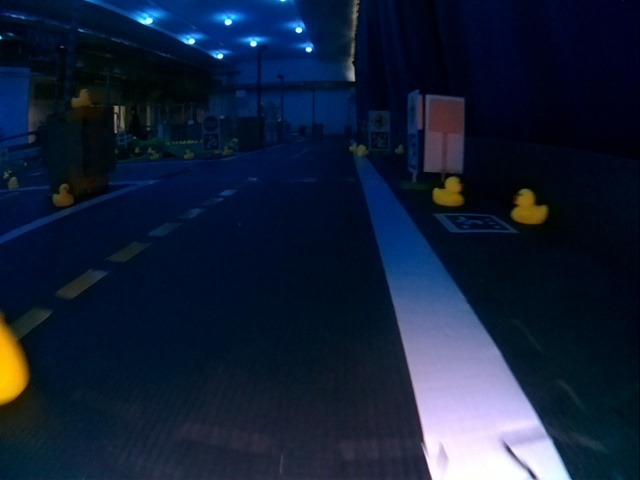Duckie: (513, 189, 548, 225), (435, 178, 462, 205), (53, 183, 73, 207), (71, 91, 90, 106), (8, 177, 20, 189), (357, 144, 367, 154), (150, 151, 159, 160), (184, 150, 192, 159)
QR code: (436, 212, 512, 235), (409, 134, 419, 169), (370, 131, 388, 149)
